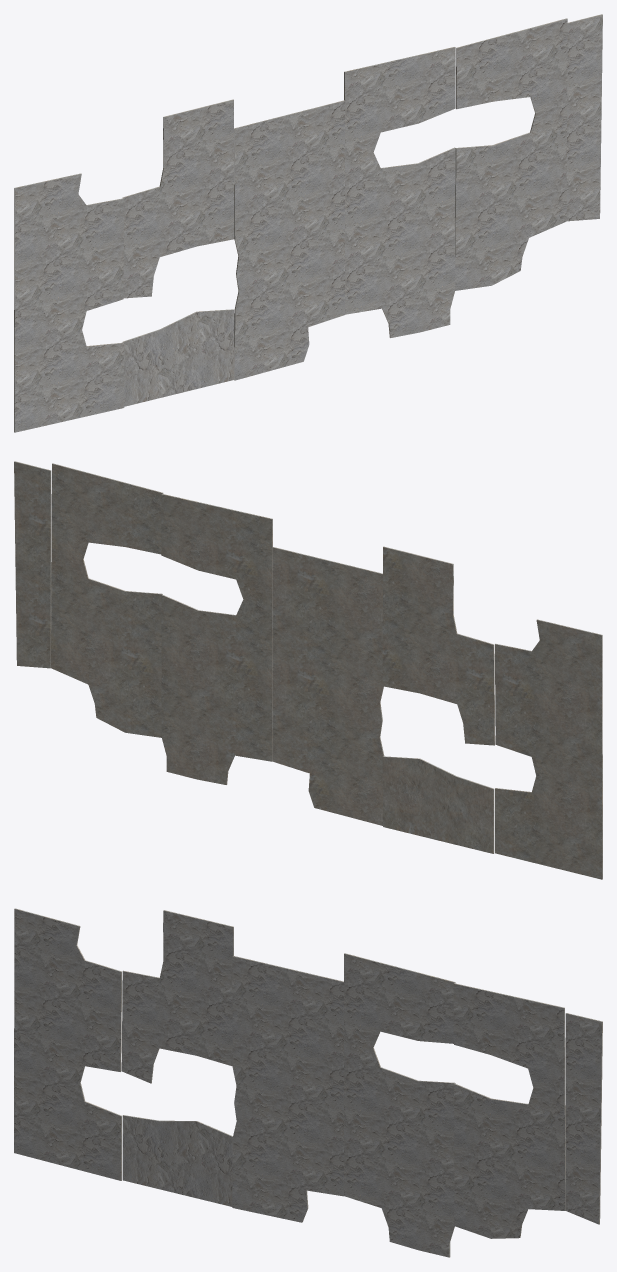
The model's file is WallpapperDoubleB.fbx.
3 renders of one model, top to bottom at view 1: azimuth 30°, elevation 25°; view 2: azimuth 150°, elevation 25°; view 3: azimuth 330°, elevation 25°, orthographic.
Parts seen in each view (by area): view 1: WallpapperDoubleB; view 2: WallpapperDoubleB; view 3: WallpapperDoubleB.
Boxes of the visible parts, x1,y1,x2,y2 form: WallpapperDoubleB: (14,14,602,432); WallpapperDoubleB: (14,461,602,879); WallpapperDoubleB: (14,908,602,1257).
Size of the model in its own units: 804 by 367 by 4.96.
